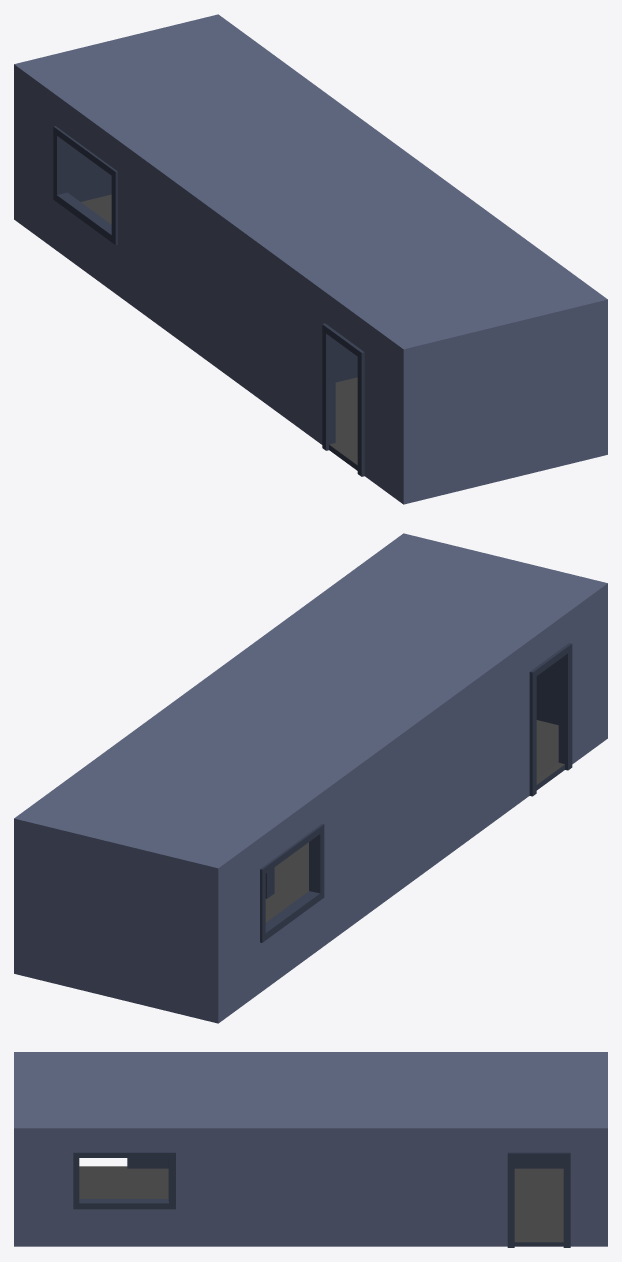
Rendered from SmallLargeBuilding1-1.fbx.
3 views of the same model, one above another, from view 1: azimuth 30°, elevation 25°; view 2: azimuth 150°, elevation 25°; view 3: azimuth 270°, elevation 25° (orthographic). The views are drawn at different scales.
Parts seen in each view (by area): view 1: SmallLargeBuilding1.000_LOD0; view 2: SmallLargeBuilding1.000_LOD0; view 3: SmallLargeBuilding1.000_LOD0.
Boxes of the visible parts, <box> form: SmallLargeBuilding1.000_LOD0: <box>14,14,607,504</box>; SmallLargeBuilding1.000_LOD0: <box>14,533,607,1023</box>; SmallLargeBuilding1.000_LOD0: <box>14,1052,607,1247</box>.
Size of what is drawn, in the model's own units: 782 by 550 by 2503.
1 material, 1 textured.
